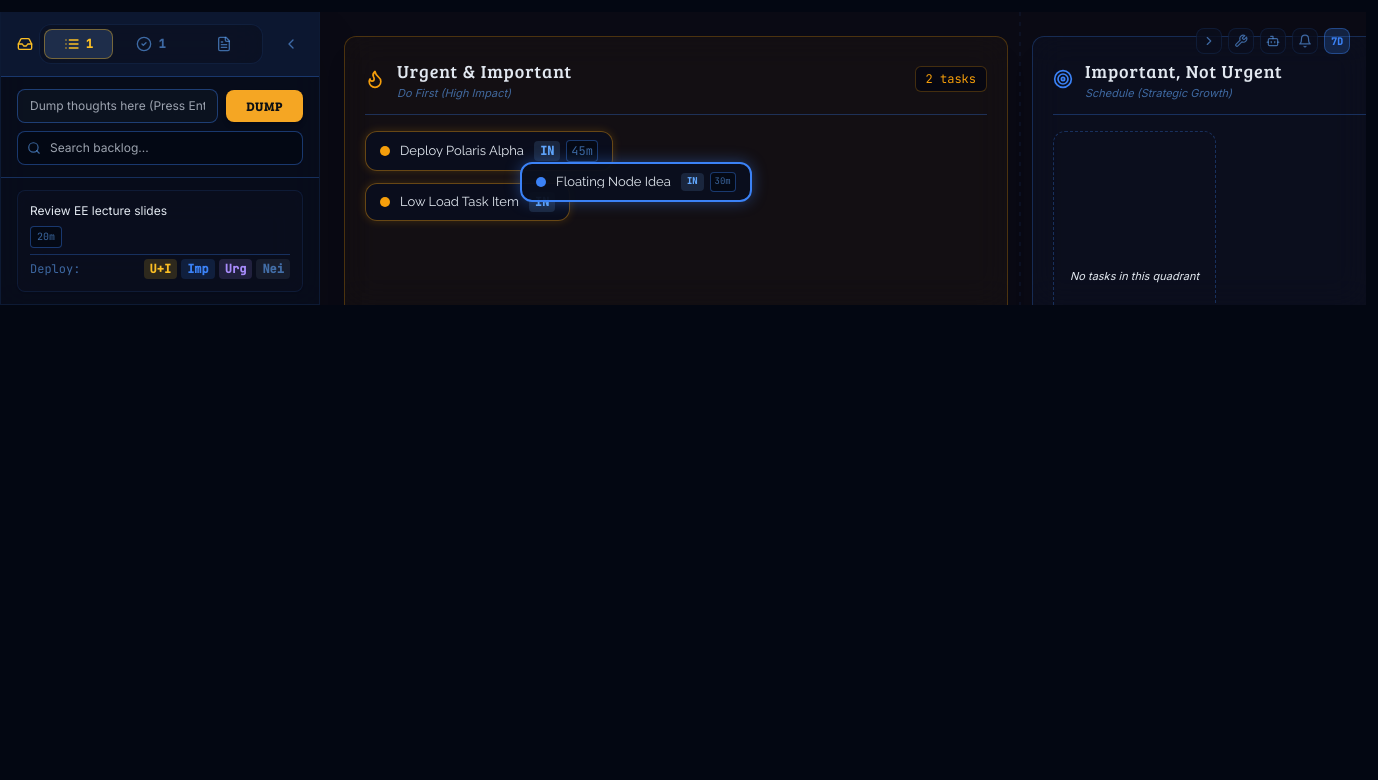
Scenario: MatrixCanvasView › does not show mental_load badge on 2D canvas pill, but shows it in Details drawer when selected
// Select task to open details
Click the heading "Low Load Task Item" at (459, 202), box [400,195,519,208]
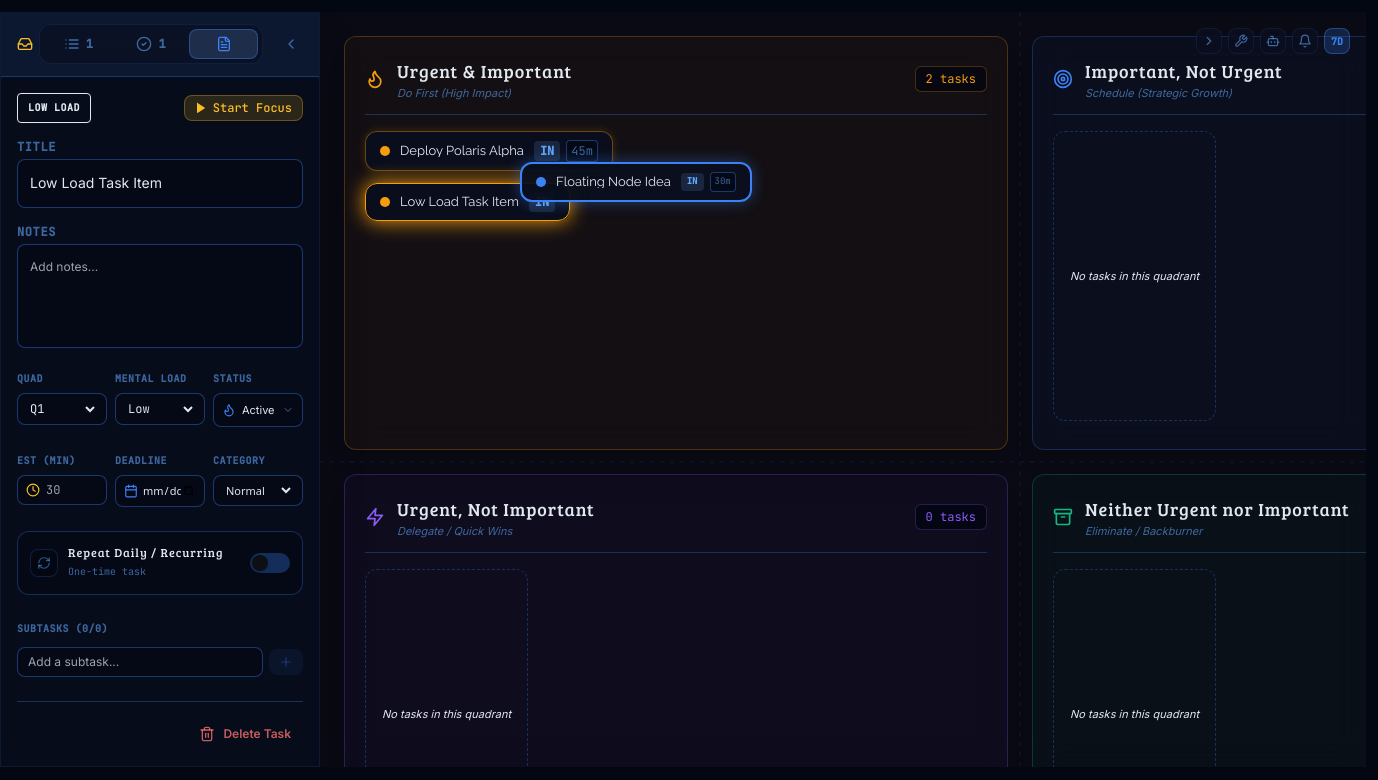
Result: the text "LOW LOAD" is shown at [17,93,91,123]
